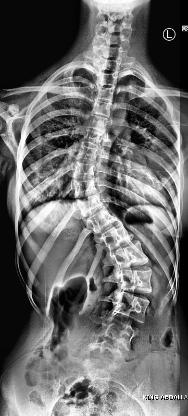Vertebrae: (108, 290, 150, 322), (111, 241, 149, 271), (119, 267, 153, 297), (73, 194, 107, 218), (87, 208, 115, 236), (105, 226, 135, 250), (69, 160, 99, 180), (71, 180, 103, 198), (87, 115, 115, 133), (76, 146, 100, 162), (83, 128, 103, 146), (100, 70, 118, 88), (100, 60, 123, 74), (93, 100, 113, 116), (97, 87, 117, 101)
